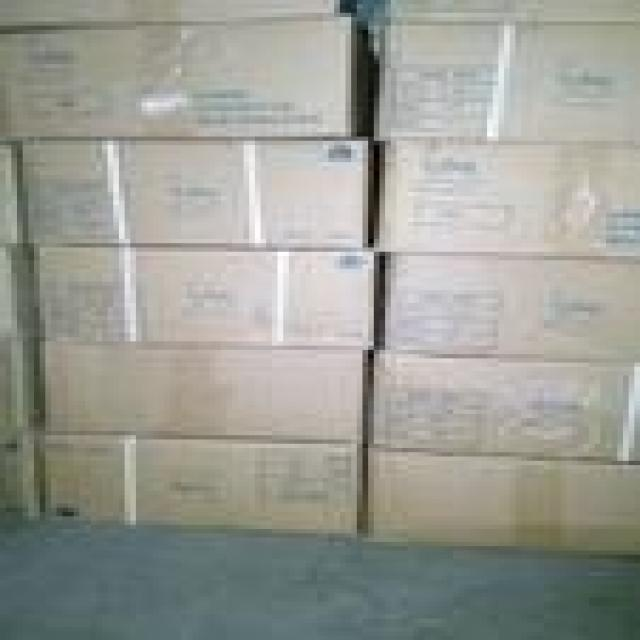box: (0, 20, 380, 141), (24, 138, 388, 247), (38, 247, 378, 347), (42, 433, 366, 535), (43, 343, 370, 444), (376, 137, 634, 256), (375, 21, 634, 138), (368, 449, 634, 555), (374, 353, 634, 461), (383, 252, 634, 358), (2, 1, 356, 30), (375, 0, 634, 22), (0, 339, 48, 431), (0, 248, 45, 339), (5, 432, 44, 521), (0, 141, 28, 247)
